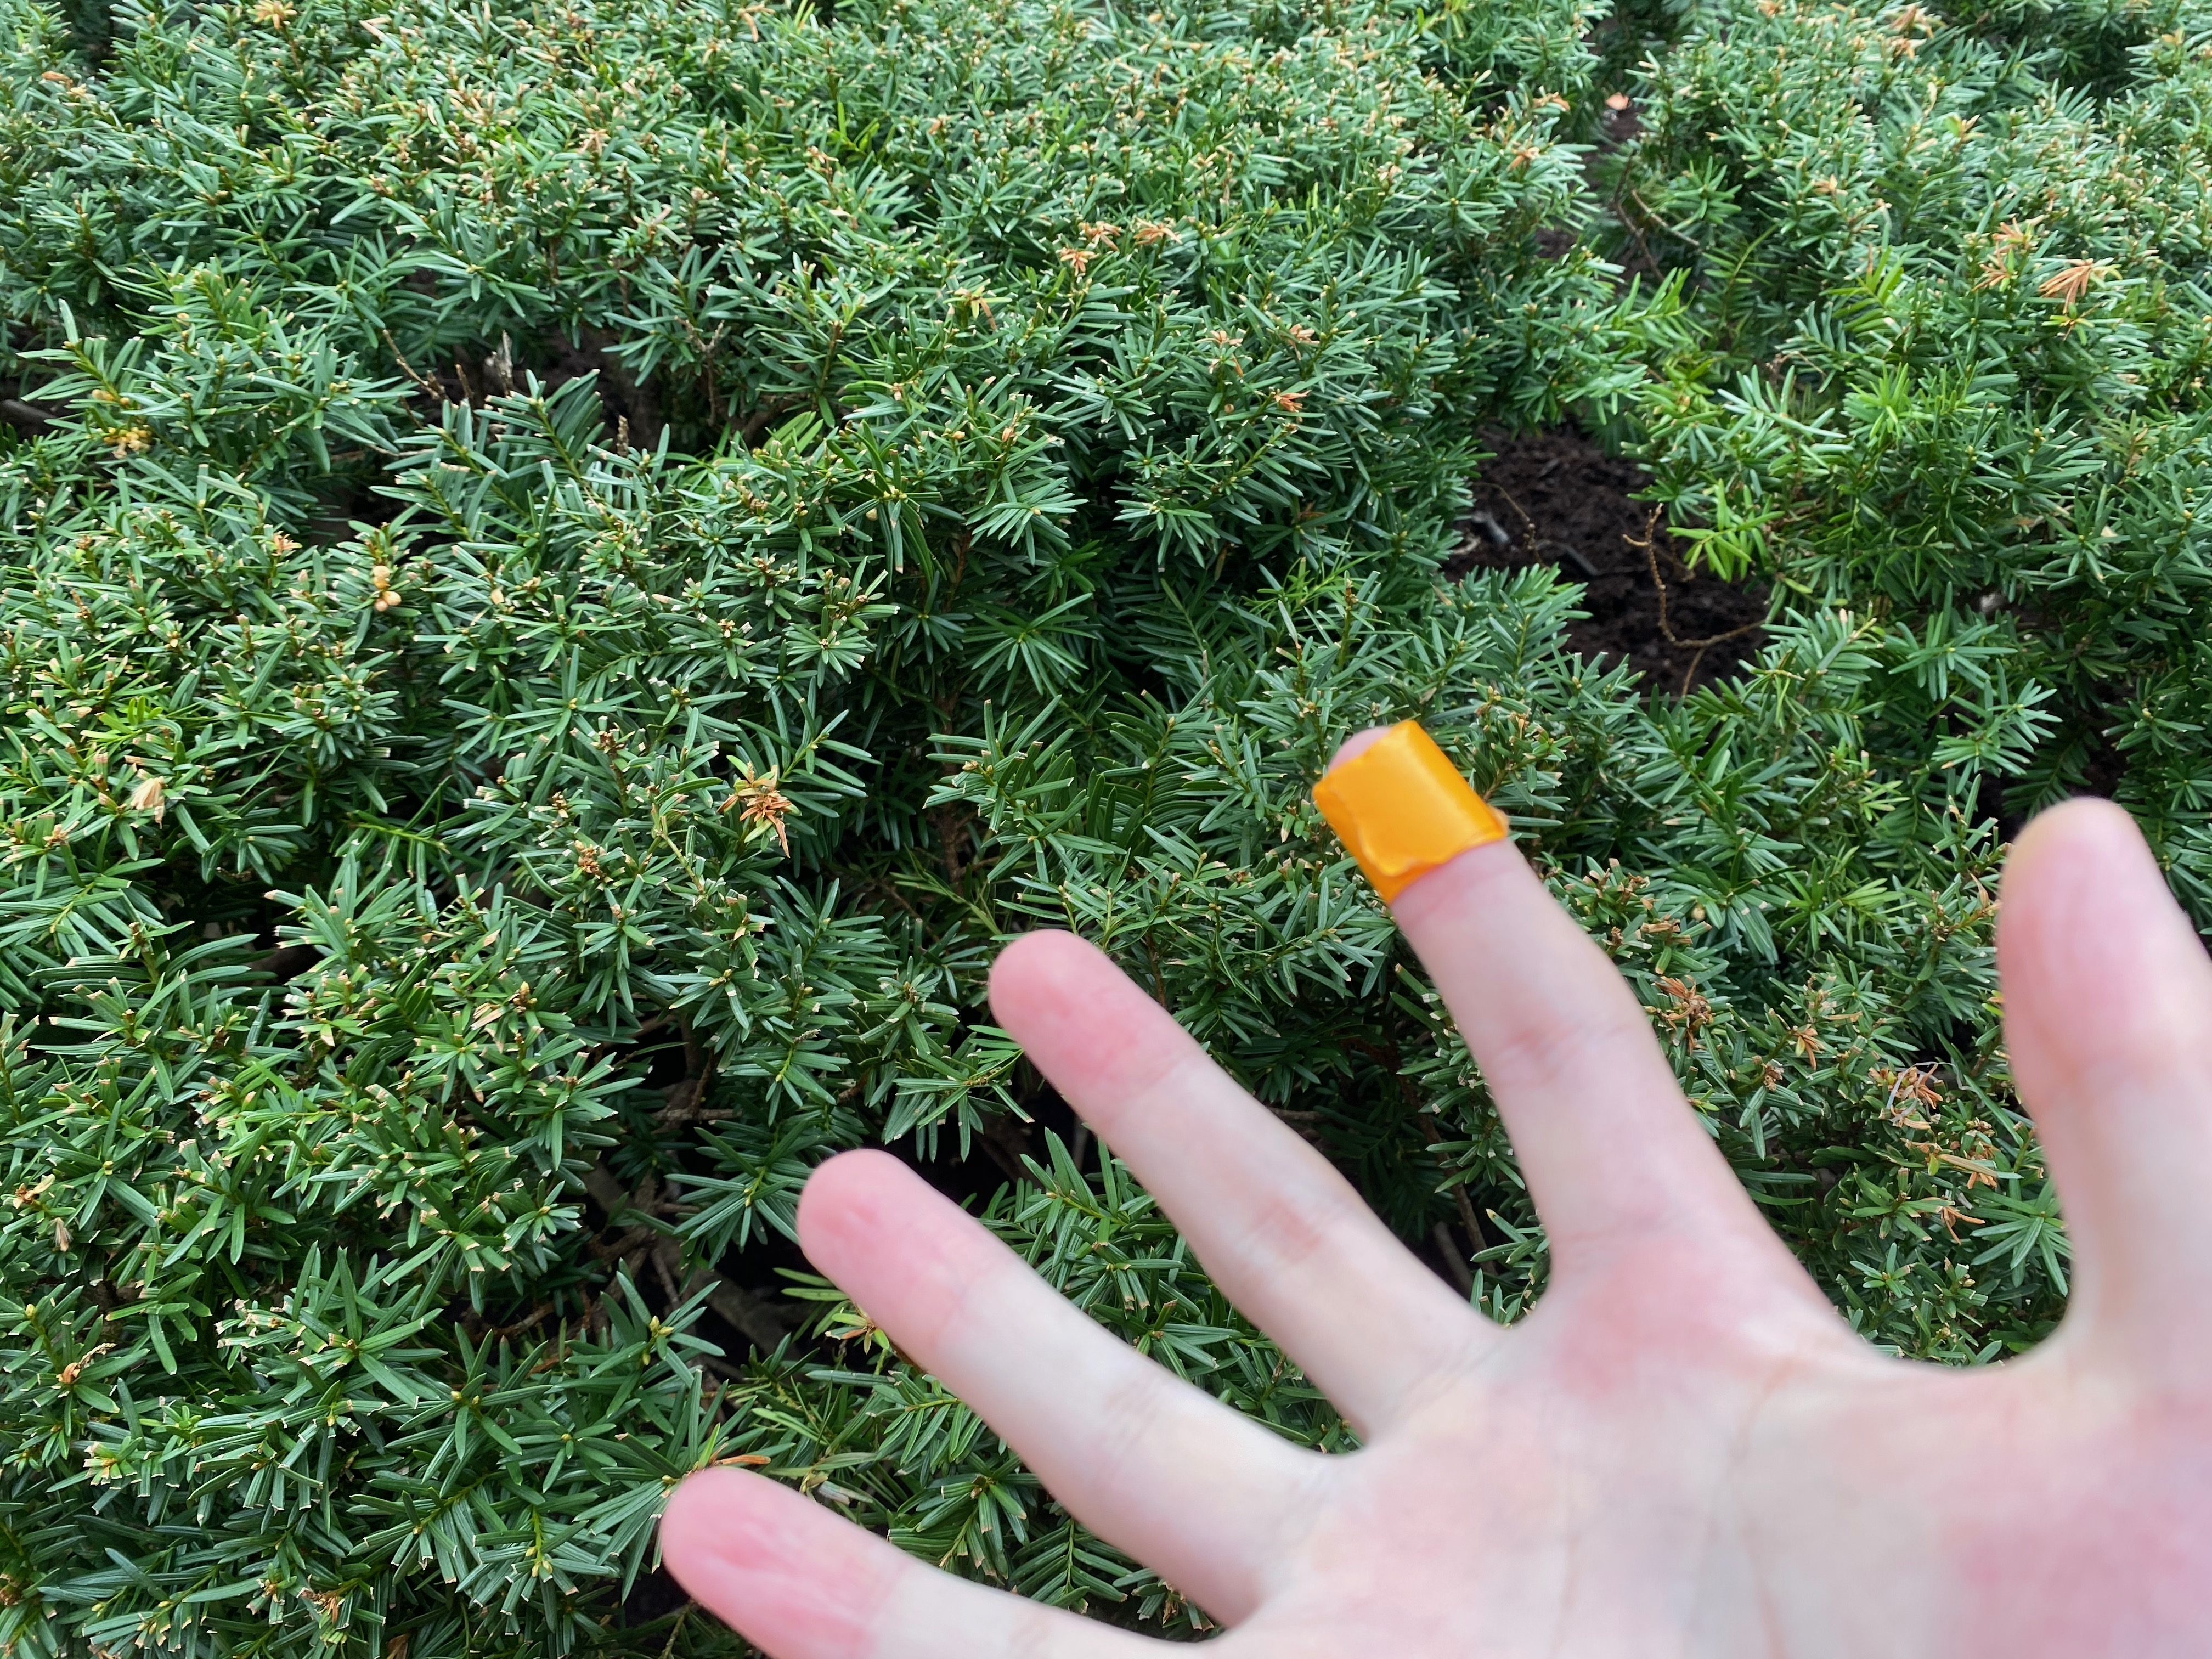fingertip: (1284, 695, 1531, 967)
